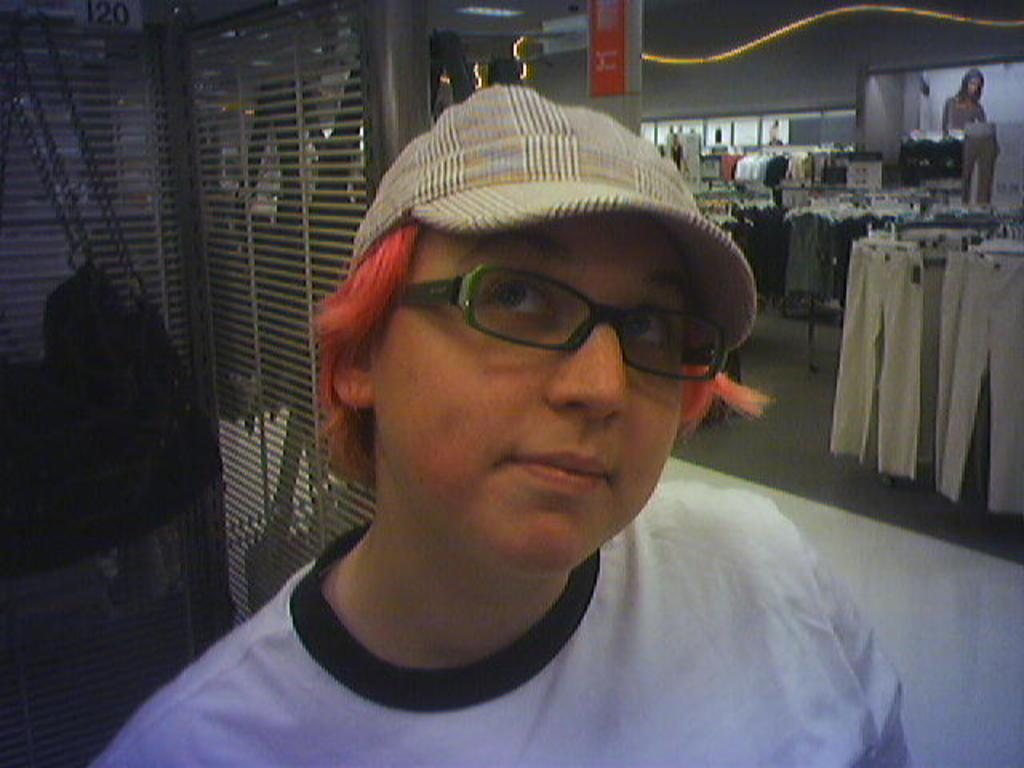Hat: (349, 78, 755, 368)
